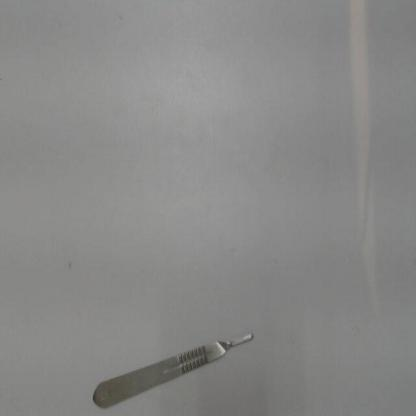No.3 BP Handle: (89, 324, 258, 411)
